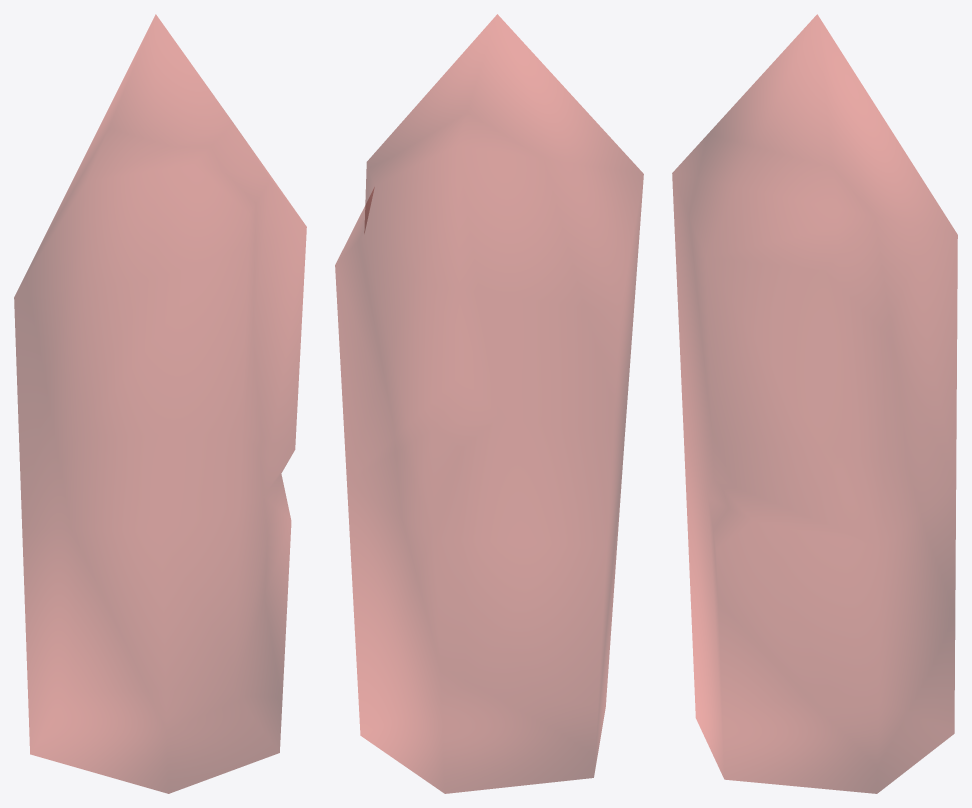
File: Crystal4_Bogdan.fbx
3 views of the same model, side by side, from view 1: azimuth 30°, elevation 25°; view 2: azimuth 150°, elevation 25°; view 3: azimuth 270°, elevation 25° (orthographic).
Parts seen in each view (by area): view 1: Crystal4; view 2: Crystal4; view 3: Crystal4.
Part boxes in pixels (x1,y1,x2,y2): Crystal4: [14, 14, 306, 793]; Crystal4: [335, 14, 643, 793]; Crystal4: [672, 14, 957, 793].
Size of the model in its own units: 33.98 by 90.6 by 32.25.
